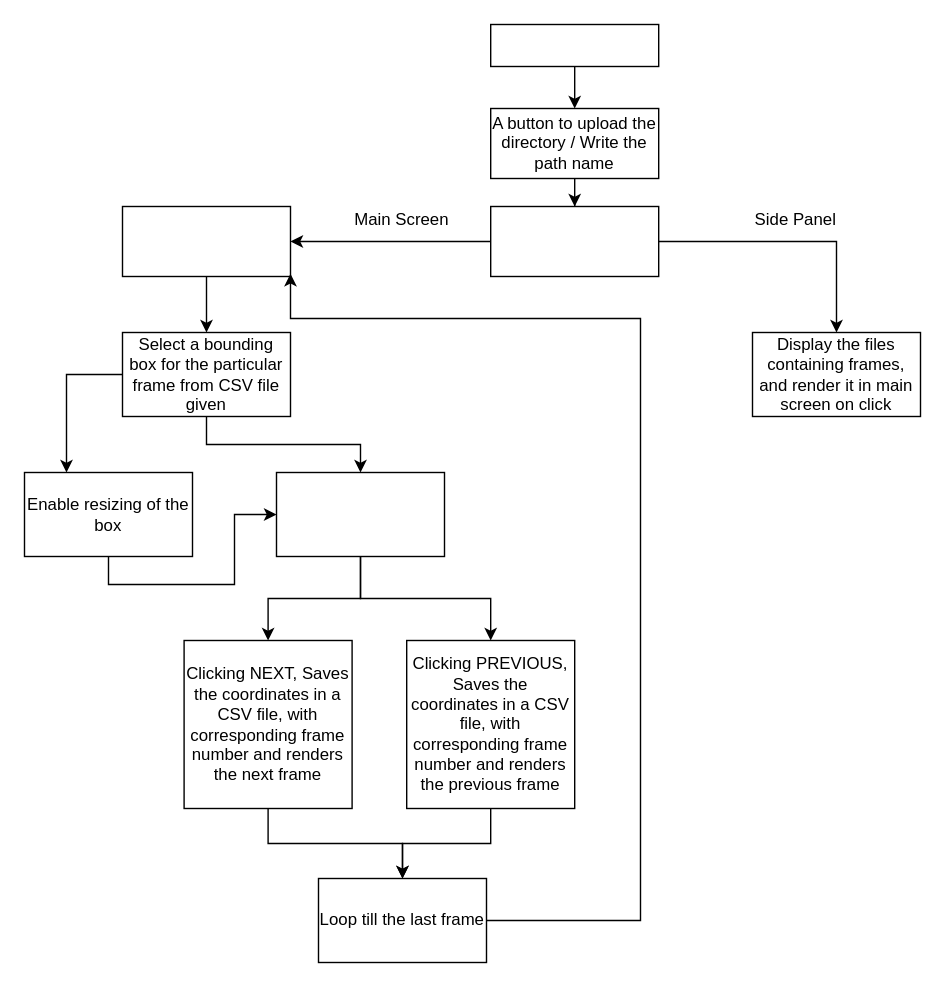
Image size: 945x987. Some labels were removed from this diagram. The shapes that lost their labels are listed below. From the top down, each one's box as (x1, y1, x2, y2) in pixels, then its label:
(489, 23, 659, 66): Start the application
(121, 205, 290, 276): Display the frame
(489, 205, 659, 276): Display screen containing Frames
(275, 471, 444, 556): Display the coordinates of the box in the side panel
